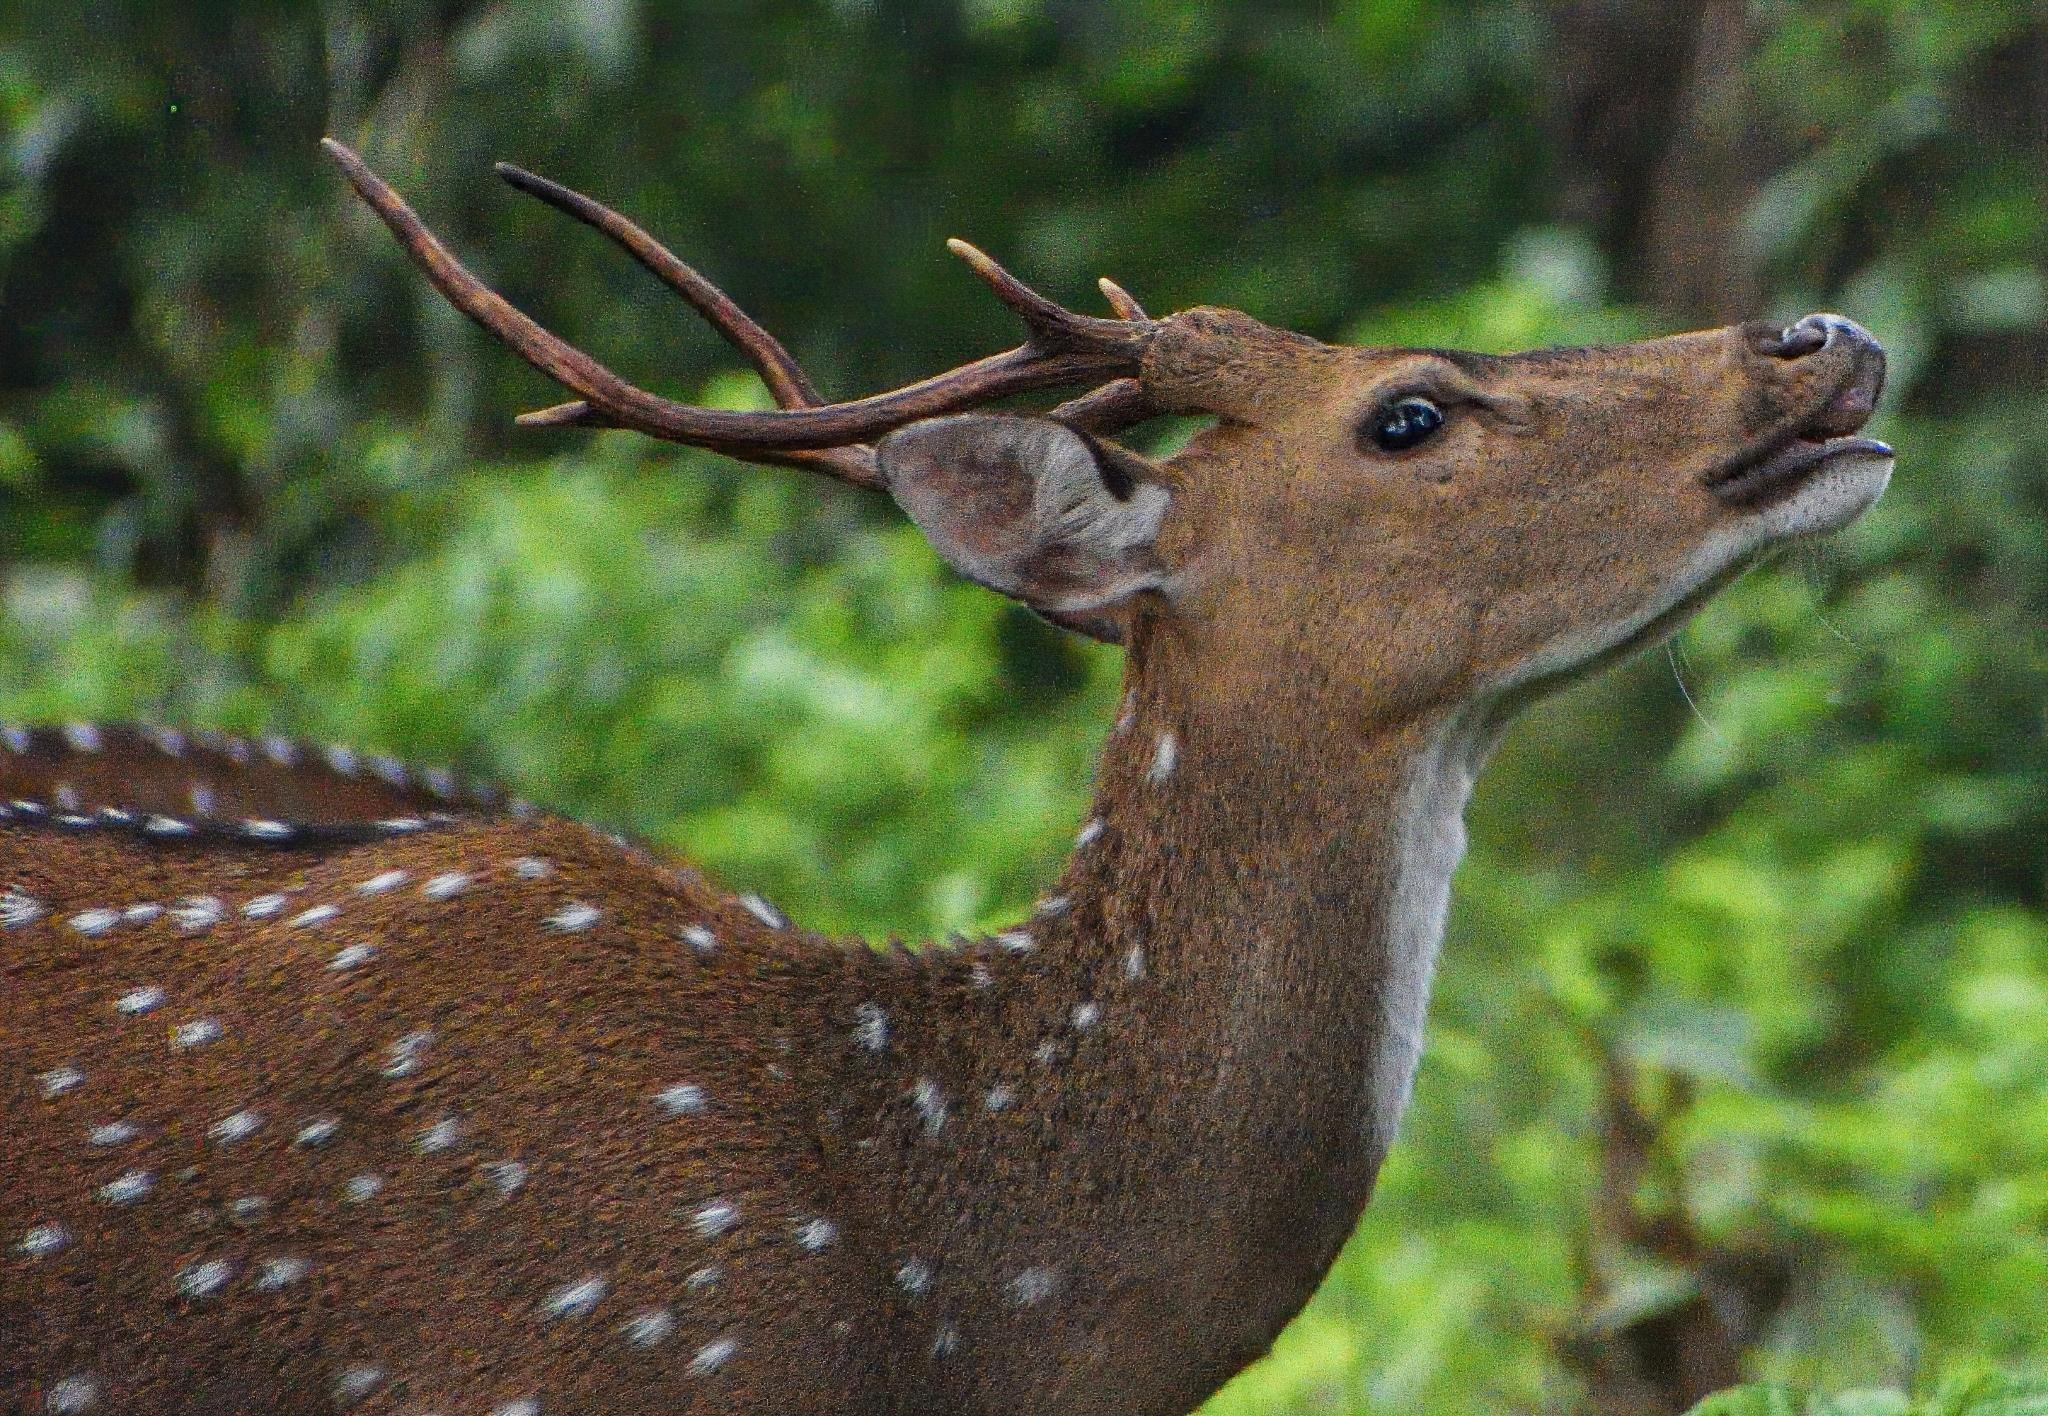Deer: (0, 142, 1892, 1411)
